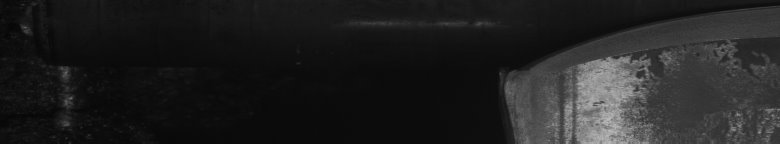kb: (481, 0, 774, 144)
